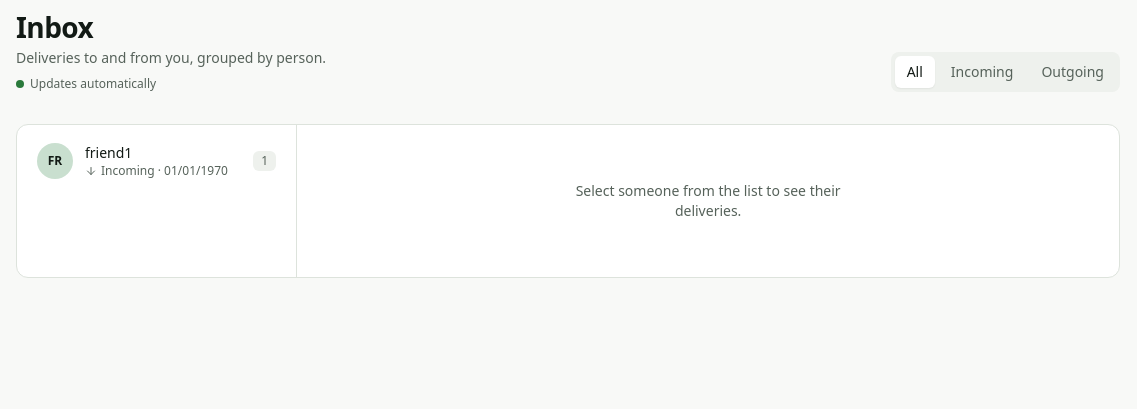
InboxPage › shows a counterparty's drop queue when clicked
Click the text "friend1": [109, 152] box [85,143,132,162]
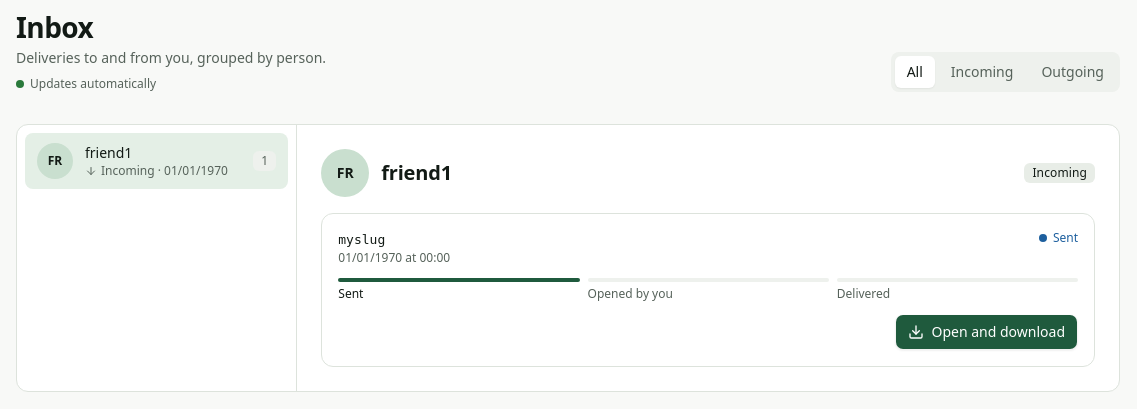
Now the text "myslug" is shown, box [338,232,385,247]
